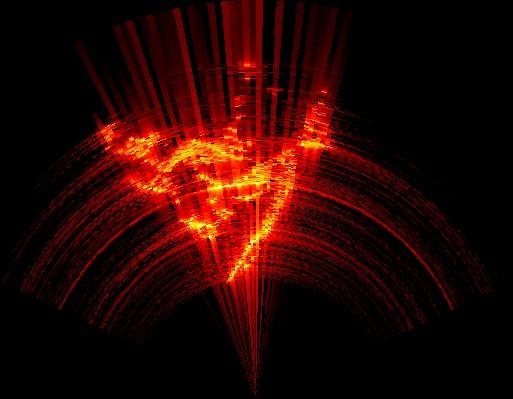shipwreck: (102, 99, 330, 278)
